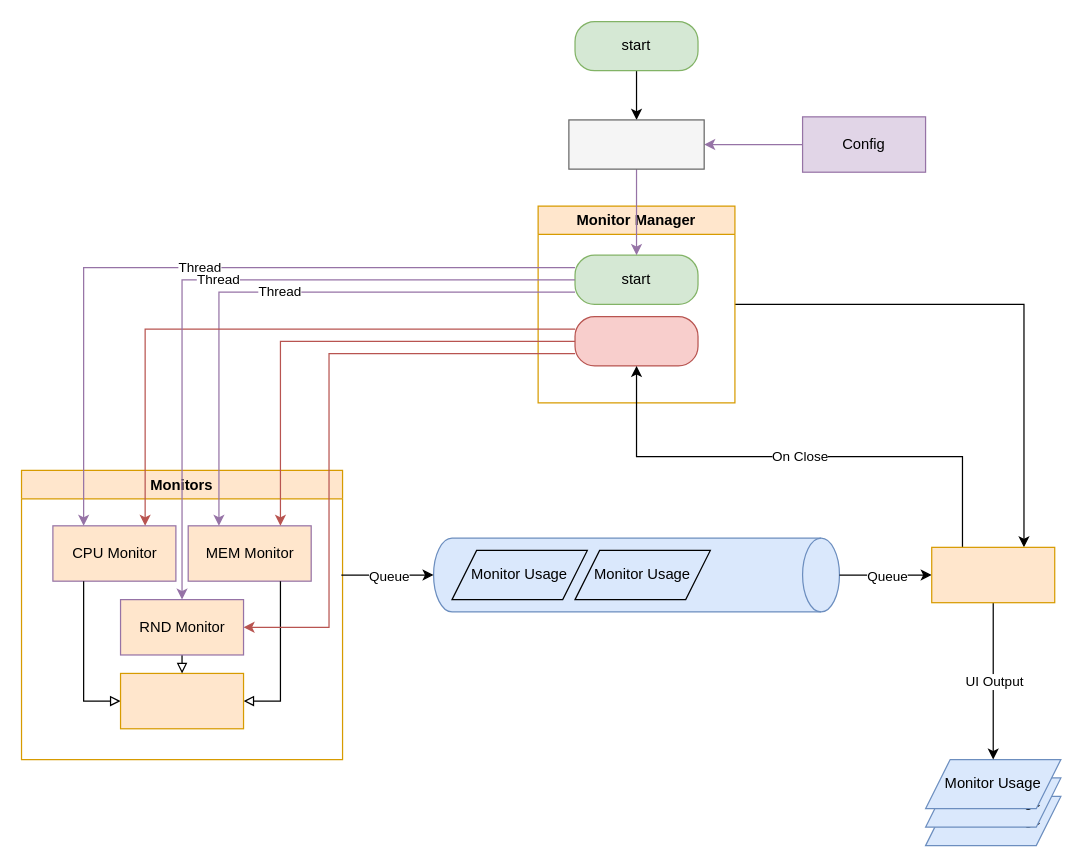
This 1082x867 diagram has some shape labels left out. Each missing label, with the centre of its shape:
Base Monitor: [181,700]
Monitor Manager Builder: [636,144]
stop: [636,340]
UI Receiver: [992,574]
